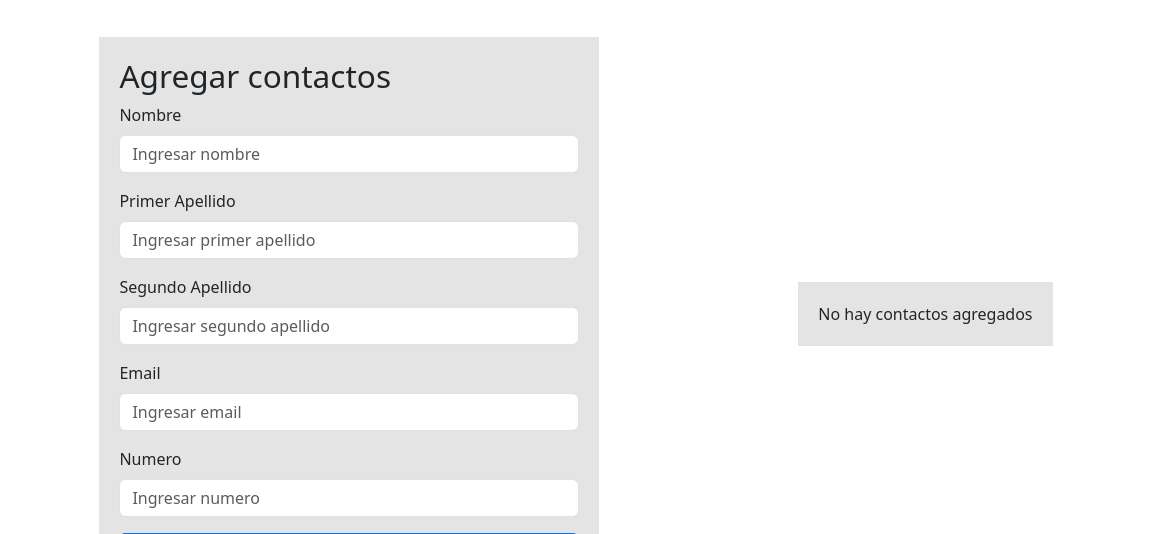
Test: pruebas de CRUD › se agrega contacto, se almacena en LS y se ve en la tabla
This screenshot has width=1152, height=534.
Expected: the field labelled "Primer Apellido" is shown, [119, 221, 579, 259]
Expected: the field labelled "Segundo Apellido" is shown, [119, 307, 579, 345]
Note: Agregamos valores a los inputs
In the field labelled "Nombre": (349, 154) [119, 135, 579, 173], type "Nombre"
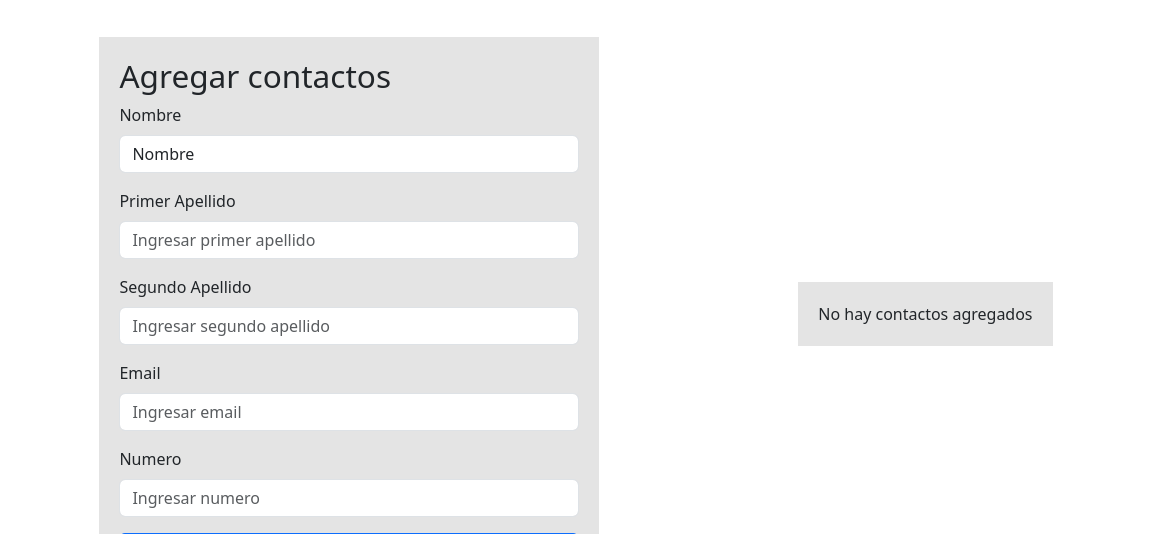
In the field labelled "Primer Apellido": (349, 240) [119, 221, 579, 259], type "Apellido1"
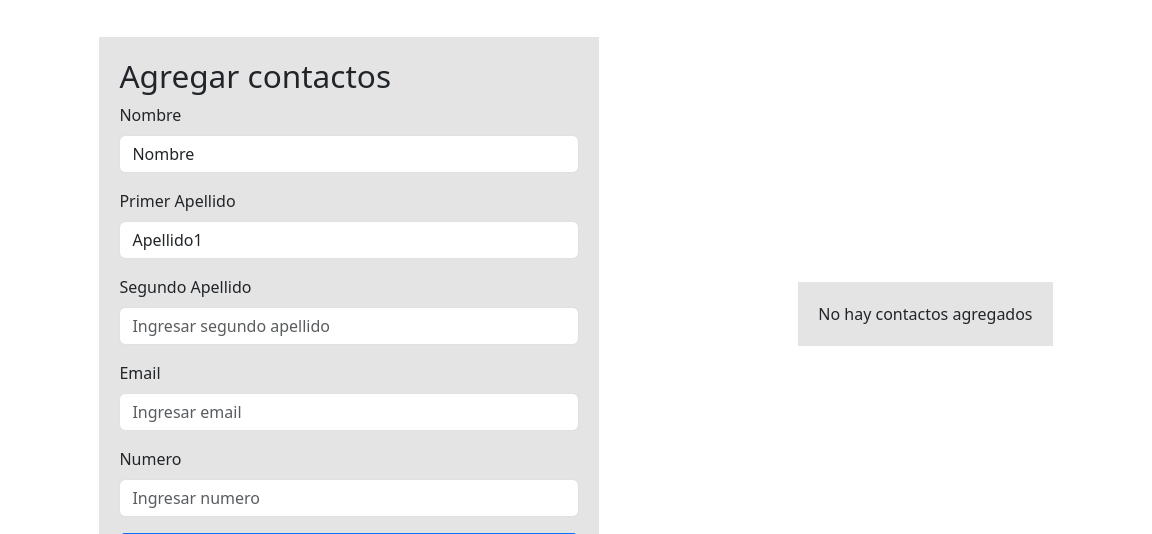
In the field labelled "Segundo Apellido": (349, 326) [119, 307, 579, 345], type "Apellido2"
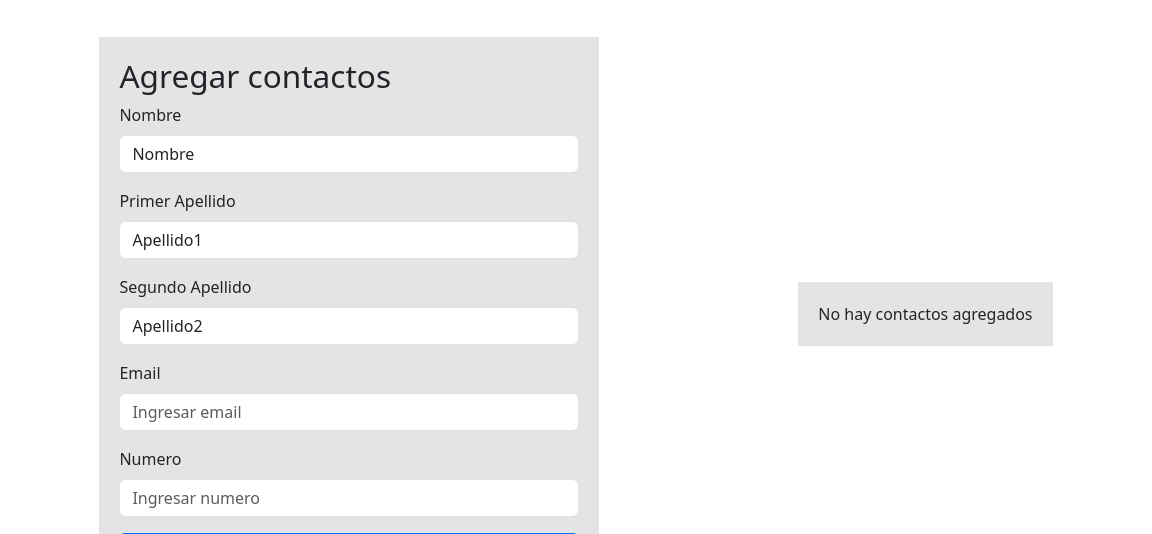
In the field labelled "Email": (349, 412) [119, 393, 579, 431], type "Email@email.com"
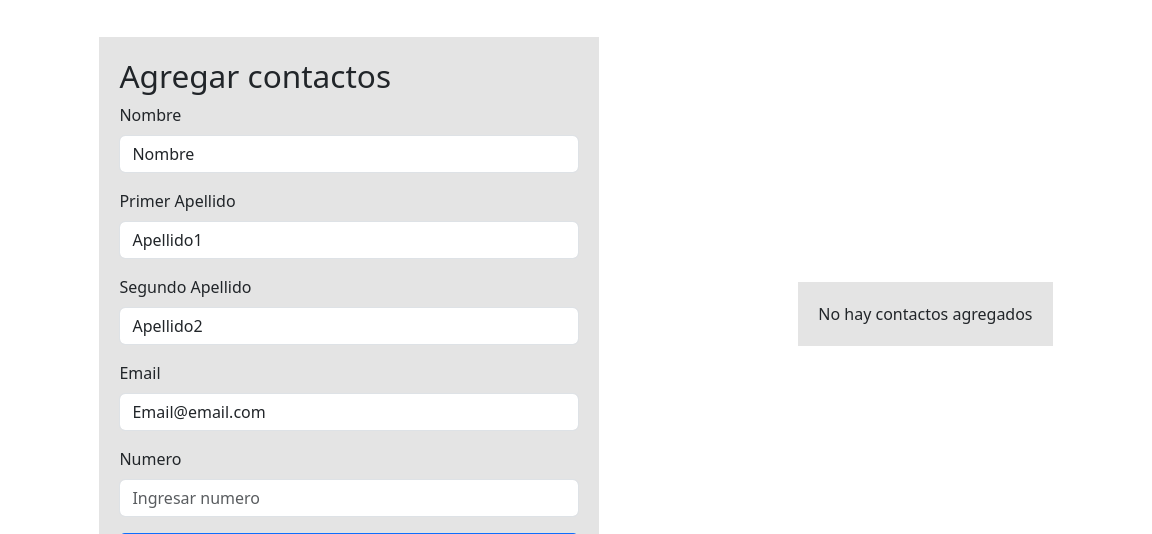
In the field labelled "Numero": (349, 498) [119, 479, 579, 517], type "123456"
(page scrolled)
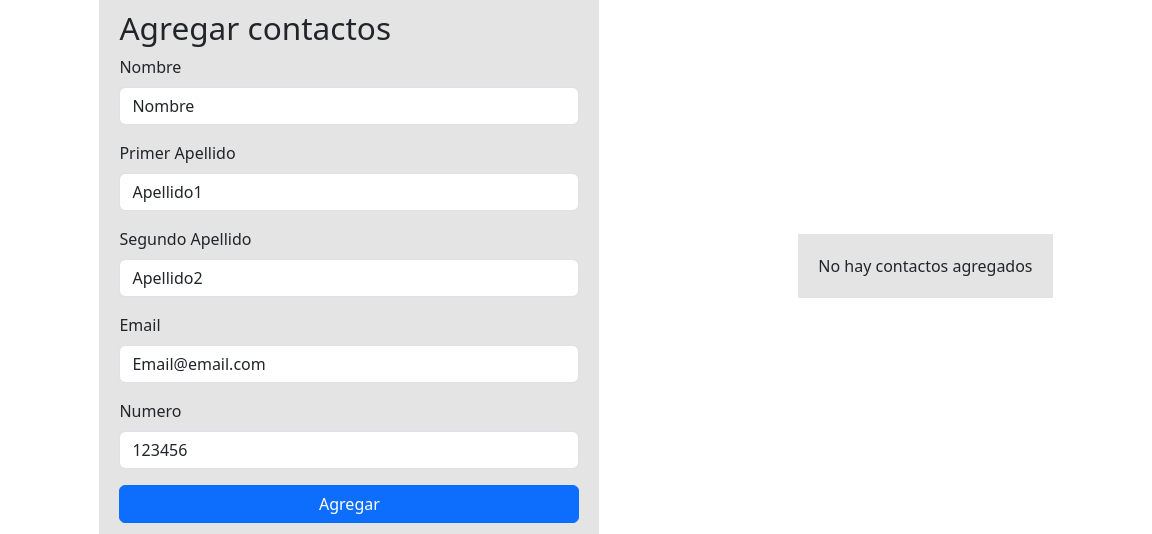
Note: Generamos el click para el submit
Click the button "Agregar": (349, 504) [119, 485, 579, 523]
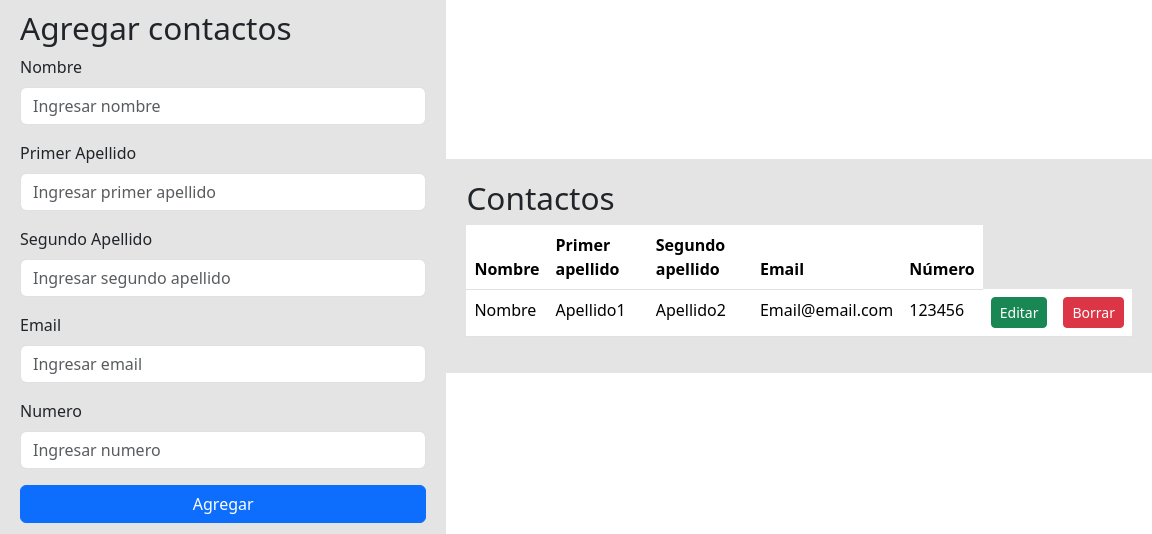
Result: the table is shown at [466, 225, 1132, 337]
Result: the row "Nombre" is shown at [466, 289, 1132, 337]
